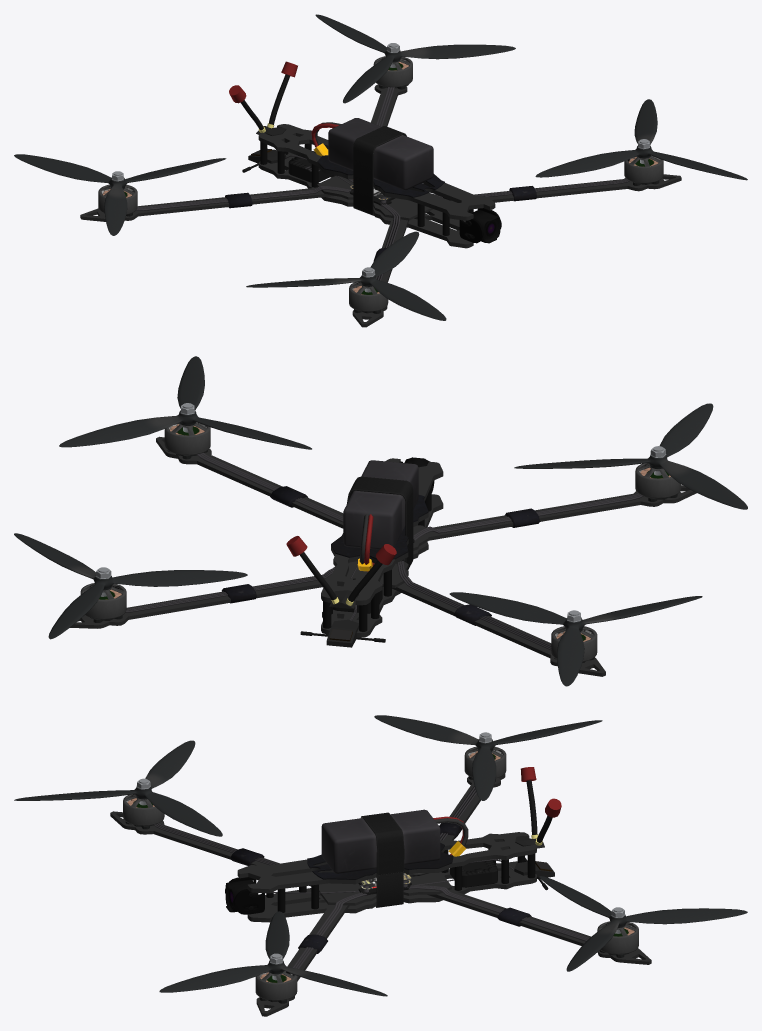
The model's file is fpv_drone.glb.
The picture shows the model from 3 angles, top to bottom: view 1: azimuth 30°, elevation 25°; view 2: azimuth 150°, elevation 25°; view 3: azimuth 270°, elevation 25°; orthographic projection. The views are drawn at different scales.
Visible parts, largest first — view 1: Motor_Top, Frame_Top, Electronics, Motor_Rotor; view 2: Motor_Top, Frame_Top, Electronics, Motor_Rotor; view 3: Motor_Top, Frame_Top, Electronics, Motor_Rotor.
Boxes of the visible parts, x1,y1,x2,y2 form: Motor_Top: [14, 14, 747, 320]; Frame_Top: [80, 84, 681, 327]; Electronics: [136, 61, 629, 280]; Motor_Rotor: [102, 62, 659, 313]; Motor_Top: [14, 356, 747, 686]; Frame_Top: [70, 436, 696, 676]; Electronics: [125, 452, 643, 650]; Motor_Rotor: [90, 424, 677, 662]; Motor_Top: [14, 715, 747, 1000]; Frame_Top: [110, 773, 651, 1016]; Electronics: [154, 767, 589, 968]; Motor_Rotor: [125, 751, 634, 1003].
Size of the model in its own units: 5.32 by 0.8074 by 5.87.
5 materials, 5 textured.
